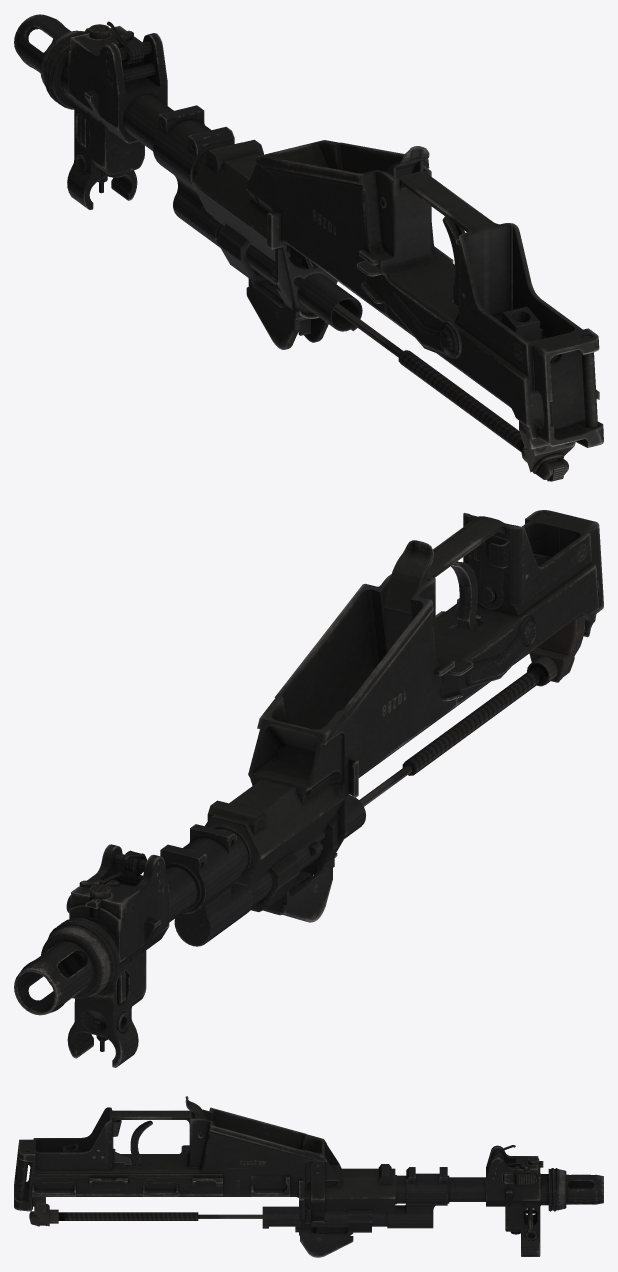
3 views of the same model, one above another, from view 1: azimuth 30°, elevation 25°; view 2: azimuth 150°, elevation 25°; view 3: azimuth 270°, elevation 25° (orthographic). The views are drawn at different scales.
Parts seen in each view (by area): view 1: TW_651450ce0e00edc794068371_PZ_Import; view 2: TW_651450ce0e00edc794068371_PZ_Import; view 3: TW_651450ce0e00edc794068371_PZ_Import.
Boxes of the visible parts, x1=… form: TW_651450ce0e00edc794068371_PZ_Import: x1=14, y1=14, x2=603, y2=481; TW_651450ce0e00edc794068371_PZ_Import: x1=14, y1=510, x2=603, y2=1067; TW_651450ce0e00edc794068371_PZ_Import: x1=14, y1=1096, x2=603, y2=1257.
Bounding box in the file's own units: 0.0274 × 0.2401 × 0.07.
Materials: 1 (1 with a texture image).
